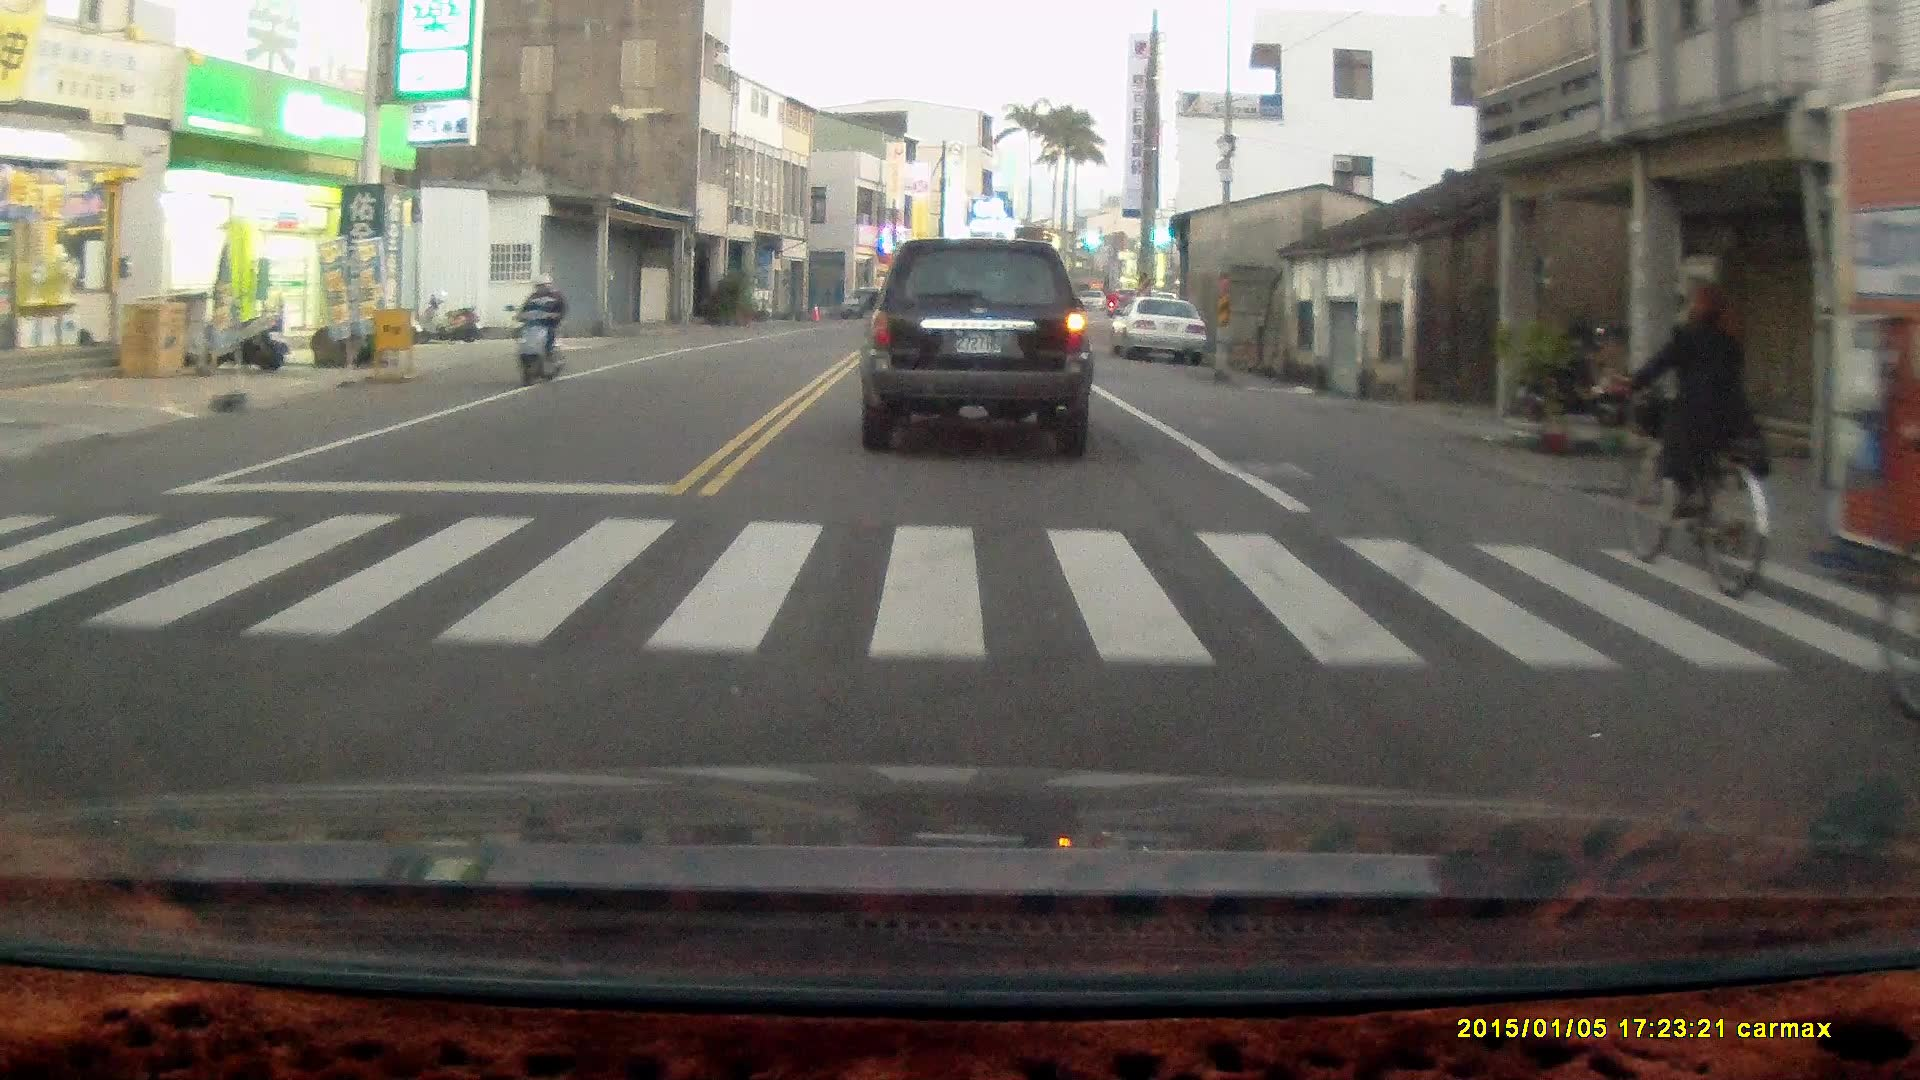rider: (1616, 281, 1775, 605), (504, 268, 567, 387)
vehicle: (864, 237, 1096, 462), (1115, 297, 1210, 365)
